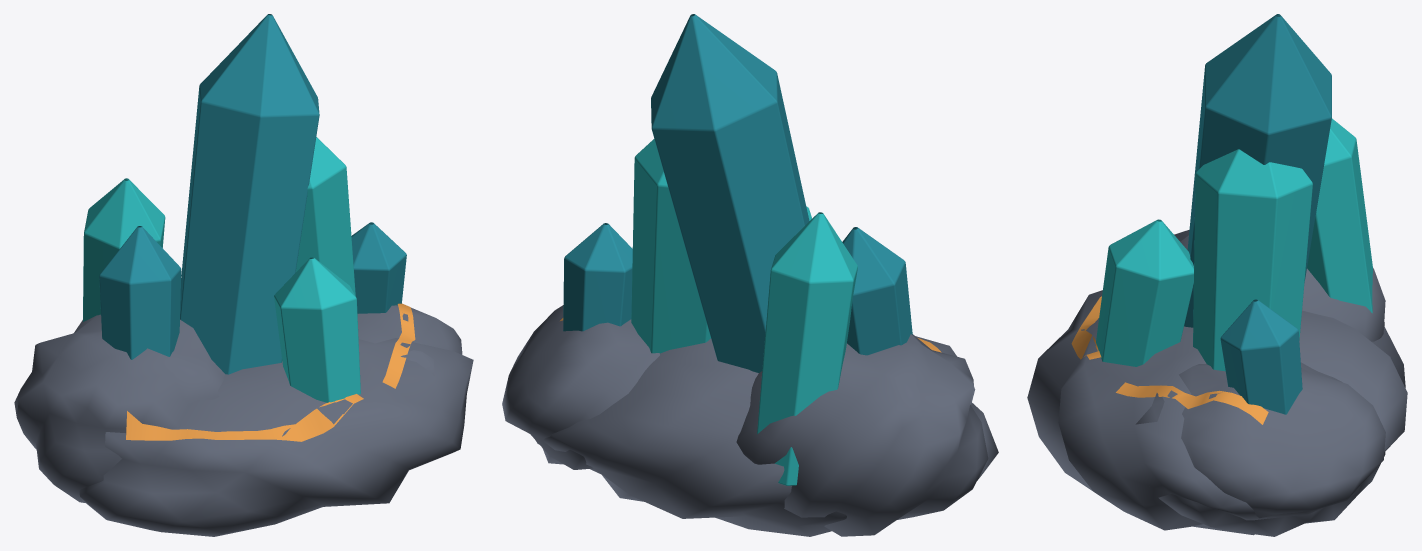
Rendered from mineral_deposit.glb.
The picture shows the model from 3 angles, left to right: view 1: azimuth 30°, elevation 25°; view 2: azimuth 150°, elevation 25°; view 3: azimuth 270°, elevation 25°; orthographic projection. The views are drawn at different scales.
Parts seen in each view (by area): view 1: Weathered host rock, Prismatic mineral, Prismatic mineral.001, Exposed copper vein; view 2: Weathered host rock, Prismatic mineral, Prismatic mineral.001; view 3: Weathered host rock, Prismatic mineral.001, Prismatic mineral, Exposed copper vein.
Part boxes in pixels (x1,y1,x2,y2): Weathered host rock: [14, 305, 473, 536]; Prismatic mineral: [99, 14, 406, 374]; Prismatic mineral.001: [83, 137, 360, 402]; Exposed copper vein: [126, 303, 415, 441]; Weathered host rock: [502, 305, 998, 536]; Prismatic mineral: [563, 14, 912, 372]; Prismatic mineral.001: [631, 139, 857, 485]; Weathered host rock: [1027, 229, 1407, 536]; Prismatic mineral.001: [1096, 118, 1372, 371]; Prismatic mineral: [1184, 14, 1331, 414]; Exposed copper vein: [1071, 296, 1268, 424].
Size of the model in its own units: 2.62 by 2.7 by 1.91.
